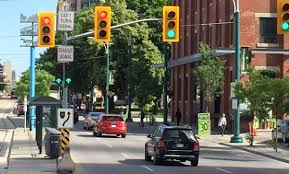keepRight: (55, 106, 75, 128)
